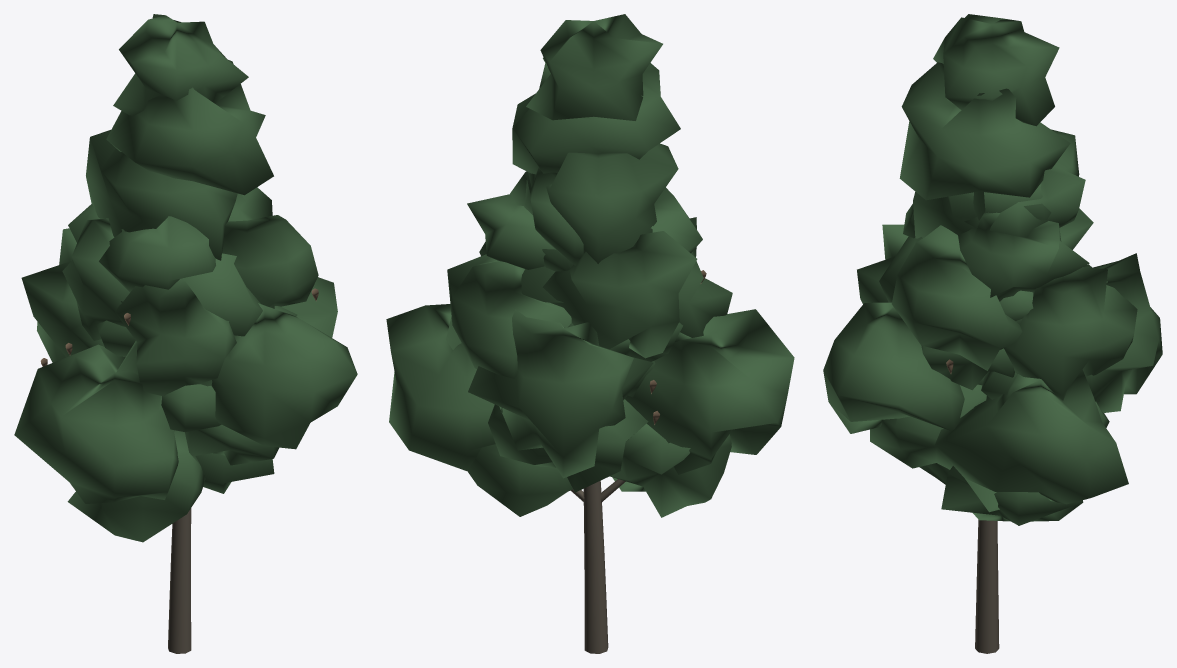
Rendered from alder-v1.glb.
3 renders of one model, left to right at view 1: azimuth 30°, elevation 25°; view 2: azimuth 150°, elevation 25°; view 3: azimuth 270°, elevation 25°, orthographic.
Parts seen in each view (by area): view 1: canopy, branches; view 2: canopy, branches; view 3: canopy, branches.
Boxes of the visible parts, left/top/right/bottom form: canopy: left=14, top=14, right=357, bottom=542; branches: left=168, top=508, right=191, bottom=653; canopy: left=386, top=14, right=794, bottom=517; branches: left=570, top=479, right=625, bottom=653; canopy: left=823, top=14, right=1162, bottom=525; branches: left=975, top=519, right=999, bottom=653.
Bounding box in the file's own units: 1.52 × 2.56 × 1.26.
